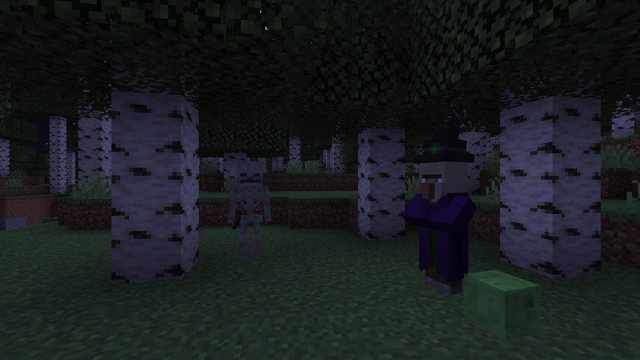slimes: (462, 268, 542, 340)
sorcieres: (413, 155, 474, 296)
squelettes: (232, 160, 264, 262)
